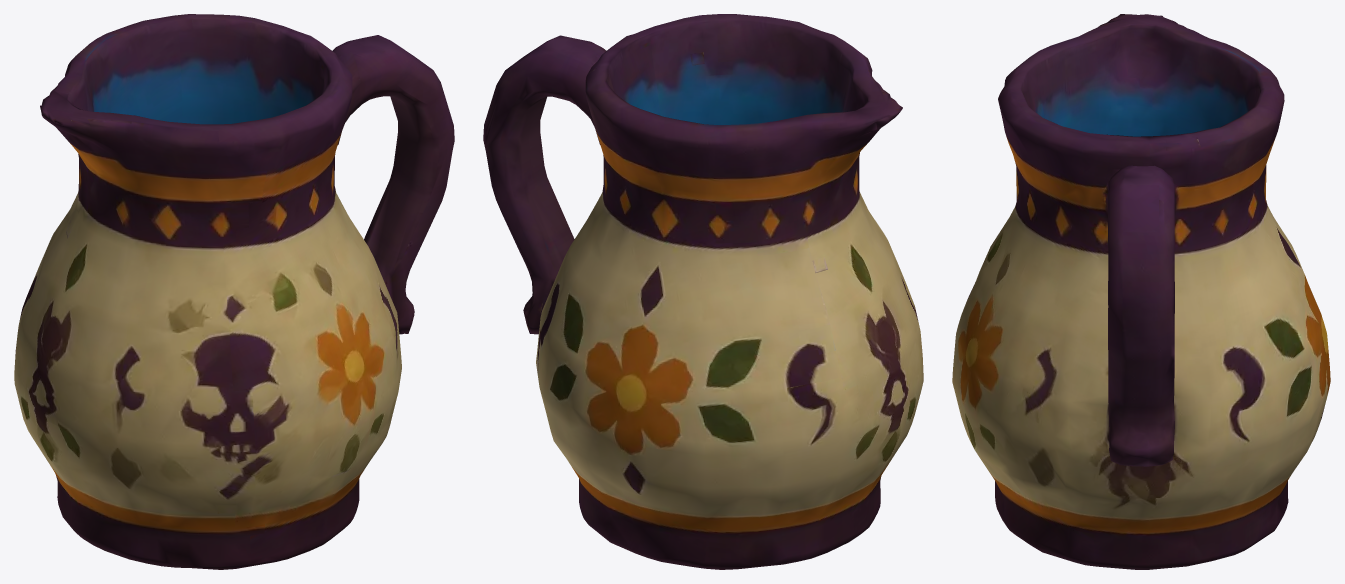
File: jarra-agua.glb
The picture shows the model from 3 angles, left to right: view 1: azimuth 30°, elevation 25°; view 2: azimuth 150°, elevation 25°; view 3: azimuth 270°, elevation 25°; orthographic projection. The views are drawn at different scales.
Visible parts, largest first — view 1: Mesh_0; view 2: Mesh_0; view 3: Mesh_0.
Part boxes in pixels (x1,y1,x2,y2): Mesh_0: (14, 14, 454, 569); Mesh_0: (483, 14, 923, 569); Mesh_0: (952, 14, 1330, 569).
Size of the model in its own units: 0.1156 by 0.12 by 0.0964.
1 material, 1 textured.
